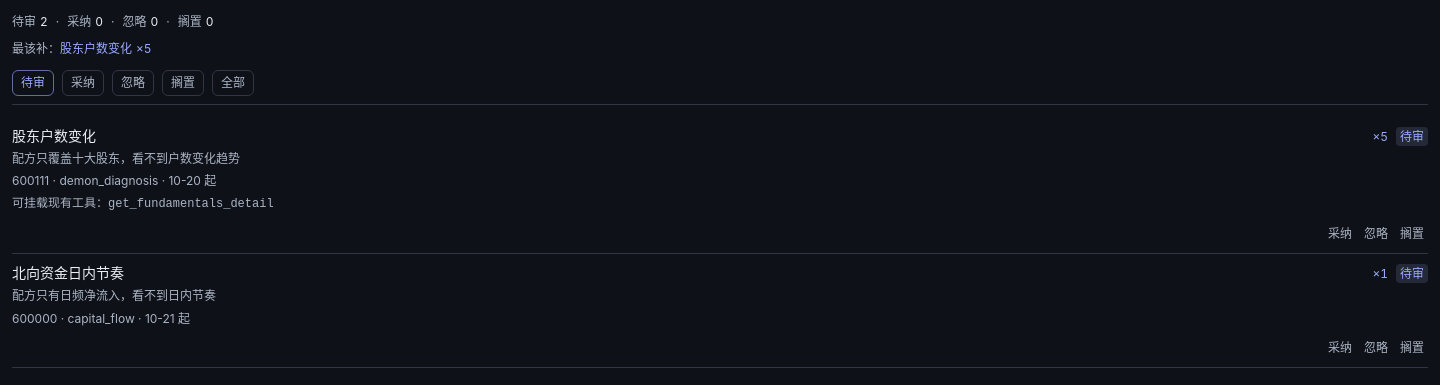
Test case: ProposalPanel › 空态（某分类无记录）：不说「还没有提案」，只说这个分类没有
Check: the number of list items with test id "proposal-row" is 2, box [12,117,1428,254]; [12,254,1428,368]
What coordinates should you click on to do the following:
click the button with test id "proposal-tab-reject"
I would click on:
 (133, 83)
Its box is [112,70,154,96].
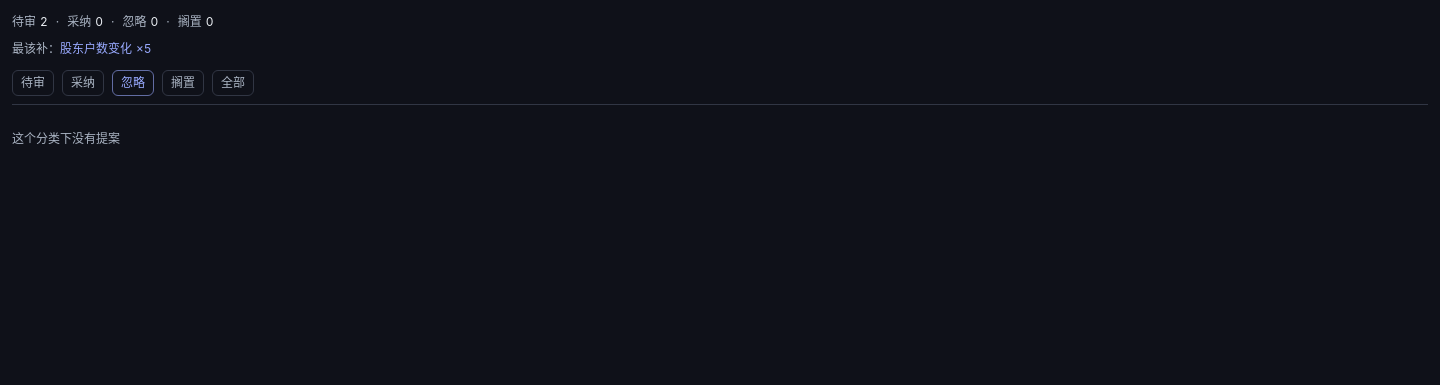
Check: the text with test id "proposal-empty-tab" reads "这个分类下没有提案", box [12,131,120,146]
